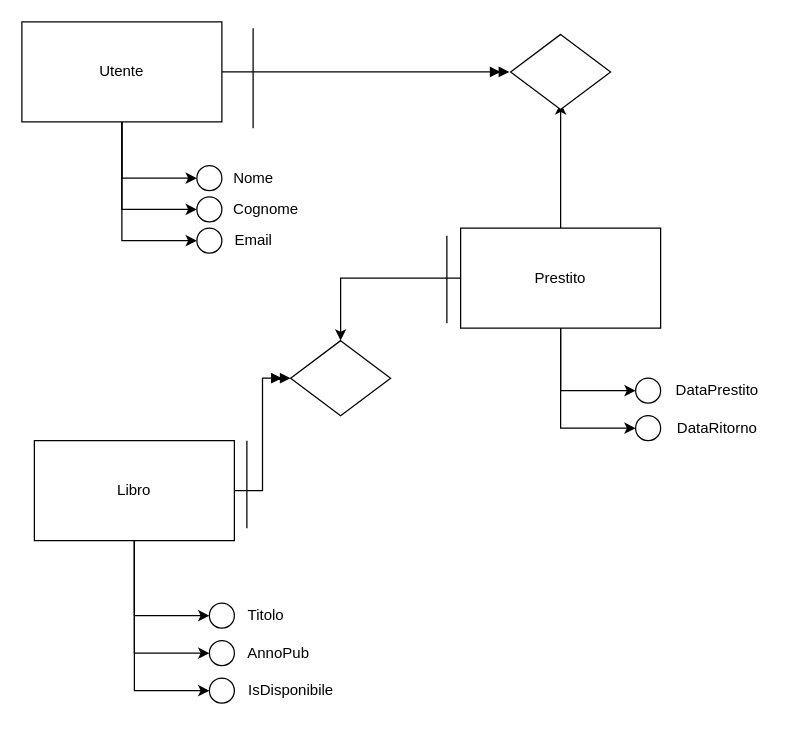
Some shapes in this 795 by 731 pixel diagram are drawn without their labels. Here are the shapes that lost their labels. From the top down, the centre of each, then its label:
At point 560,71: "prendere".
At point 340,377: "essere".
